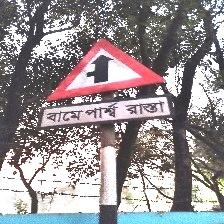Side-road-left: (39, 37, 173, 131)
